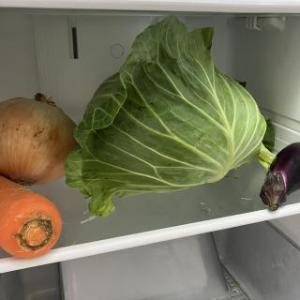cabbage: (65, 14, 268, 226)
carrot: (1, 174, 64, 262)
eggplant: (258, 140, 300, 214)
onion: (0, 91, 82, 186)
